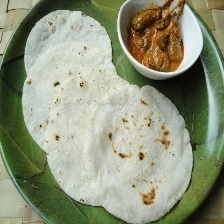roti: (22, 74, 194, 224)
